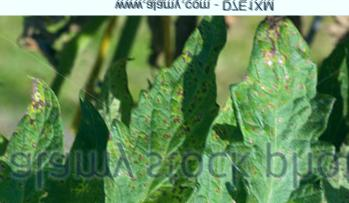Tomato Septoria leaf spot: (96, 14, 224, 203), (232, 12, 341, 203), (0, 68, 63, 203), (169, 122, 247, 203), (281, 111, 349, 203)
